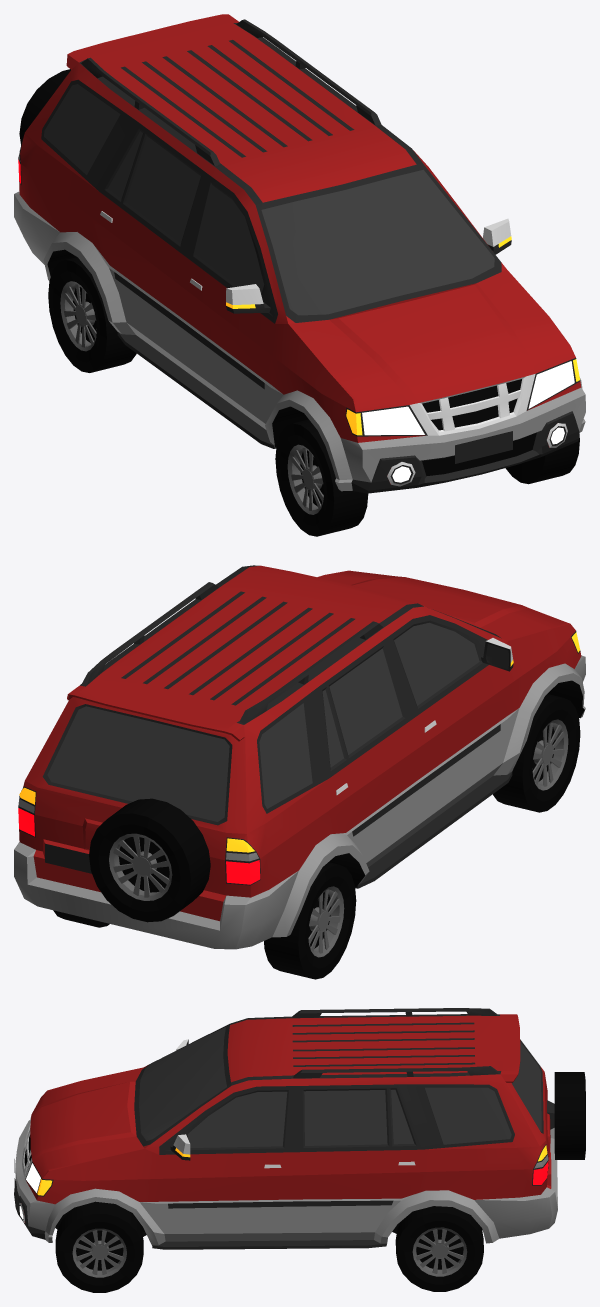
File: car-van-suv.glb
3 views of the same model, one above another, from view 1: azimuth 30°, elevation 25°; view 2: azimuth 150°, elevation 25°; view 3: azimuth 270°, elevation 25° (orthographic). The views are drawn at different scales.
Parts seen in each view (by area): view 1: Body_Object_4, Body_Object_12, Body_Object_5, Body_Object_13, wheel-front-left, wheel-back-left, Body_Object_10, Body_Object_9, Body_Object_6, wheel-front-right, Body_Object_14; view 2: Body_Object_4, Body_Object_12, Body_Object_5, Body_Object_13, Body_Object_14, wheel-back-left, wheel-front-left, Body_Object_15, Body_Object_9, Body_Object_11, Body_Object_7; view 3: Body_Object_4, Body_Object_12, Body_Object_5, Body_Object_13, wheel-front-right, wheel-back-right, Body_Object_14, Body_Object_10.
Boxes of the visible parts, x1=… form: Body_Object_4: x1=19, y1=14, x2=581, y2=484; Body_Object_12: x1=44, y1=84, x2=494, y2=315; Body_Object_5: x1=18, y1=19, x2=580, y2=493; Body_Object_13: x1=14, y1=191, x2=585, y2=491; wheel-front-left: x1=275, y1=419, x2=368, y2=536; wheel-back-left: x1=48, y1=257, x2=136, y2=372; Body_Object_10: x1=100, y1=211, x2=567, y2=486; Body_Object_9: x1=47, y1=249, x2=536, y2=476; Body_Object_6: x1=362, y1=361, x2=574, y2=482; wheel-front-right: x1=505, y1=433, x2=579, y2=484; Body_Object_14: x1=19, y1=69, x2=70, y2=145; Body_Object_4: x1=19, y1=565, x2=581, y2=921; Body_Object_12: x1=47, y1=622, x2=508, y2=821; Body_Object_5: x1=18, y1=565, x2=580, y2=888; Body_Object_13: x1=14, y1=655, x2=585, y2=949; Body_Object_14: x1=89, y1=798, x2=210, y2=922; wheel-back-left: x1=264, y1=862, x2=356, y2=979; wheel-front-left: x1=493, y1=694, x2=580, y2=812; Body_Object_15: x1=109, y1=833, x2=172, y2=900; Body_Object_9: x1=118, y1=680, x2=584, y2=892; Body_Object_11: x1=18, y1=808, x2=260, y2=884; Body_Object_7: x1=19, y1=632, x2=580, y2=852; Body_Object_4: x1=24, y1=1014, x2=551, y2=1222; Body_Object_12: x1=139, y1=1027, x2=541, y2=1147; Body_Object_5: x1=14, y1=1008, x2=554, y2=1249; Body_Object_13: x1=15, y1=1120, x2=557, y2=1245; wheel-front-right: x1=55, y1=1201, x2=143, y2=1292; wheel-back-right: x1=395, y1=1206, x2=483, y2=1291; Body_Object_14: x1=554, y1=1072, x2=585, y2=1159; Body_Object_10: x1=19, y1=1039, x2=415, y2=1222.
Size of the model in its own units: 1.98 by 1.83 by 4.55.
